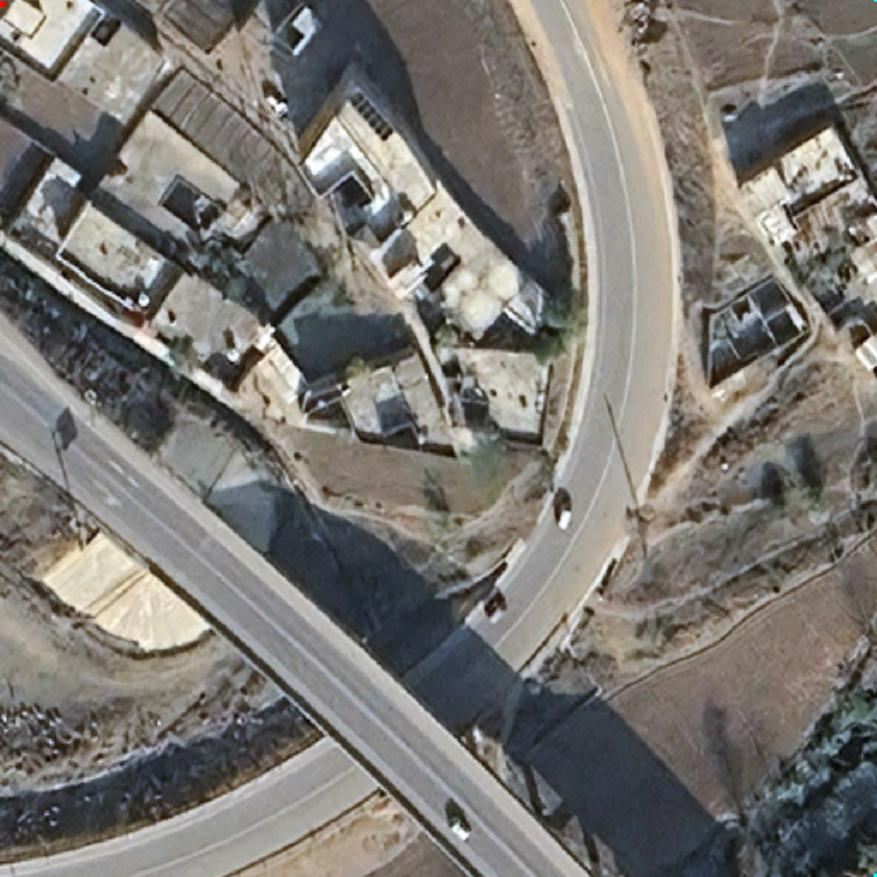Solarpanel: (347, 87, 398, 143)
